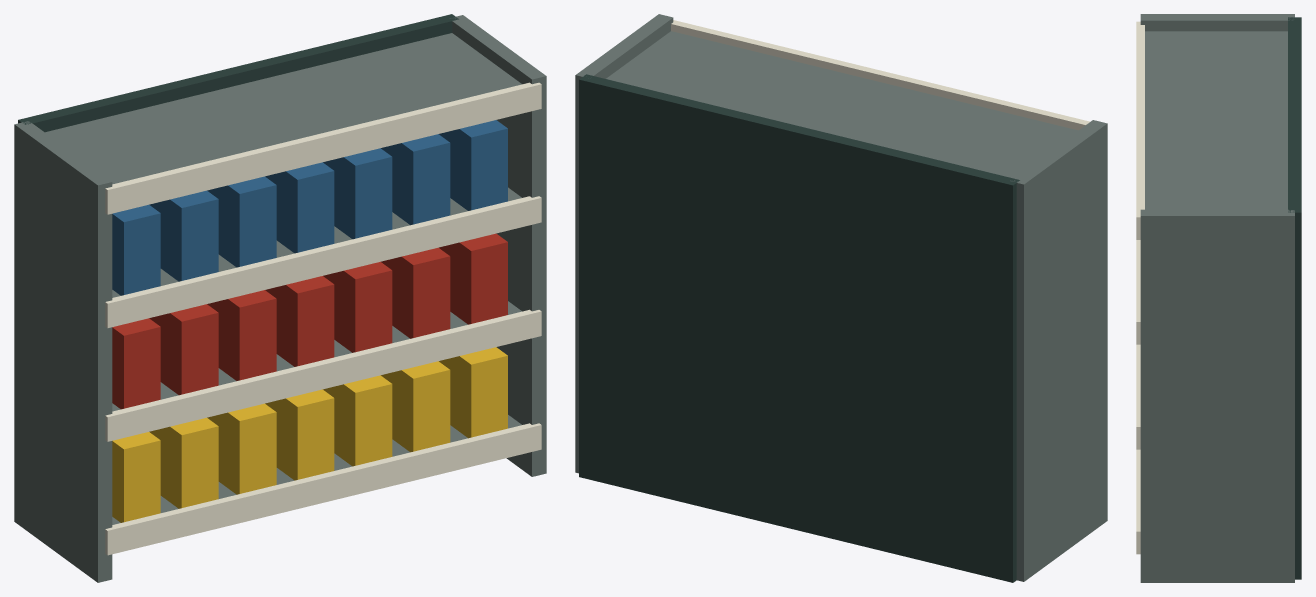
Rendered from RetailShelf.obj.
3 renders of one model, left to right at view 1: azimuth 30°, elevation 25°; view 2: azimuth 150°, elevation 25°; view 3: azimuth 270°, elevation 25°, orthographic. The views are drawn at different scales.
Visible parts, largest first — view 1: RetailShelf; view 2: RetailShelf; view 3: RetailShelf.
Boxes of the visible parts, x1=… form: RetailShelf: x1=14, y1=14, x2=546, y2=582; RetailShelf: x1=575, y1=14, x2=1107, y2=582; RetailShelf: x1=1136, y1=14, x2=1301, y2=582.
Size of the model in its own units: 2.48 by 2.1 by 0.8575.
